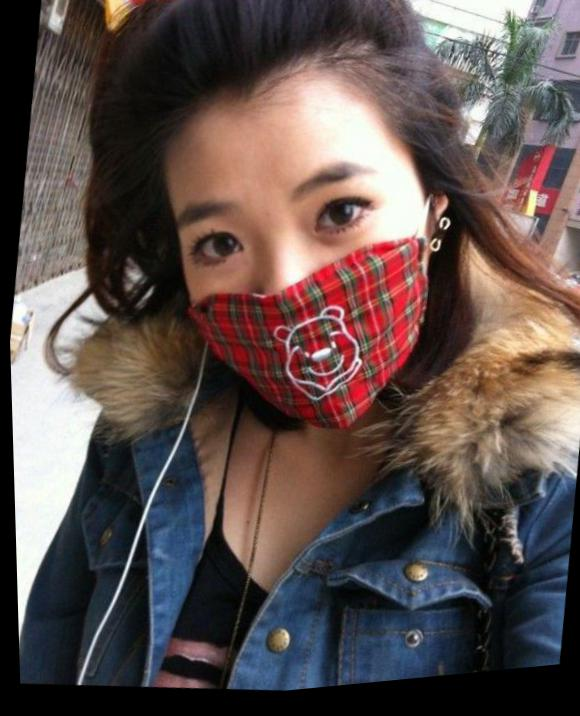WRONG: (163, 143, 448, 444)
